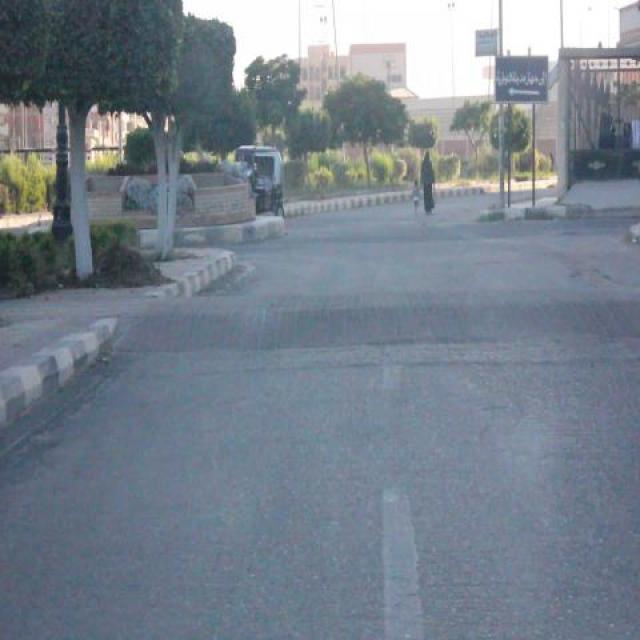Unmarked Bump: (101, 278, 640, 356)
